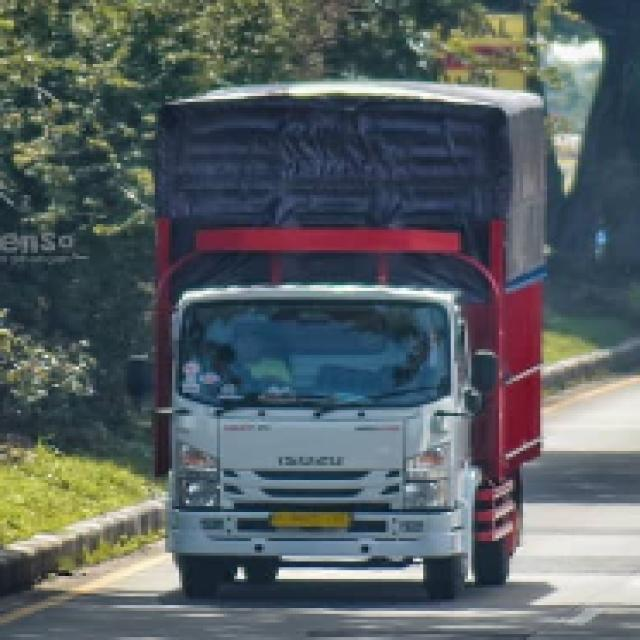Truck: (127, 66, 576, 612)
